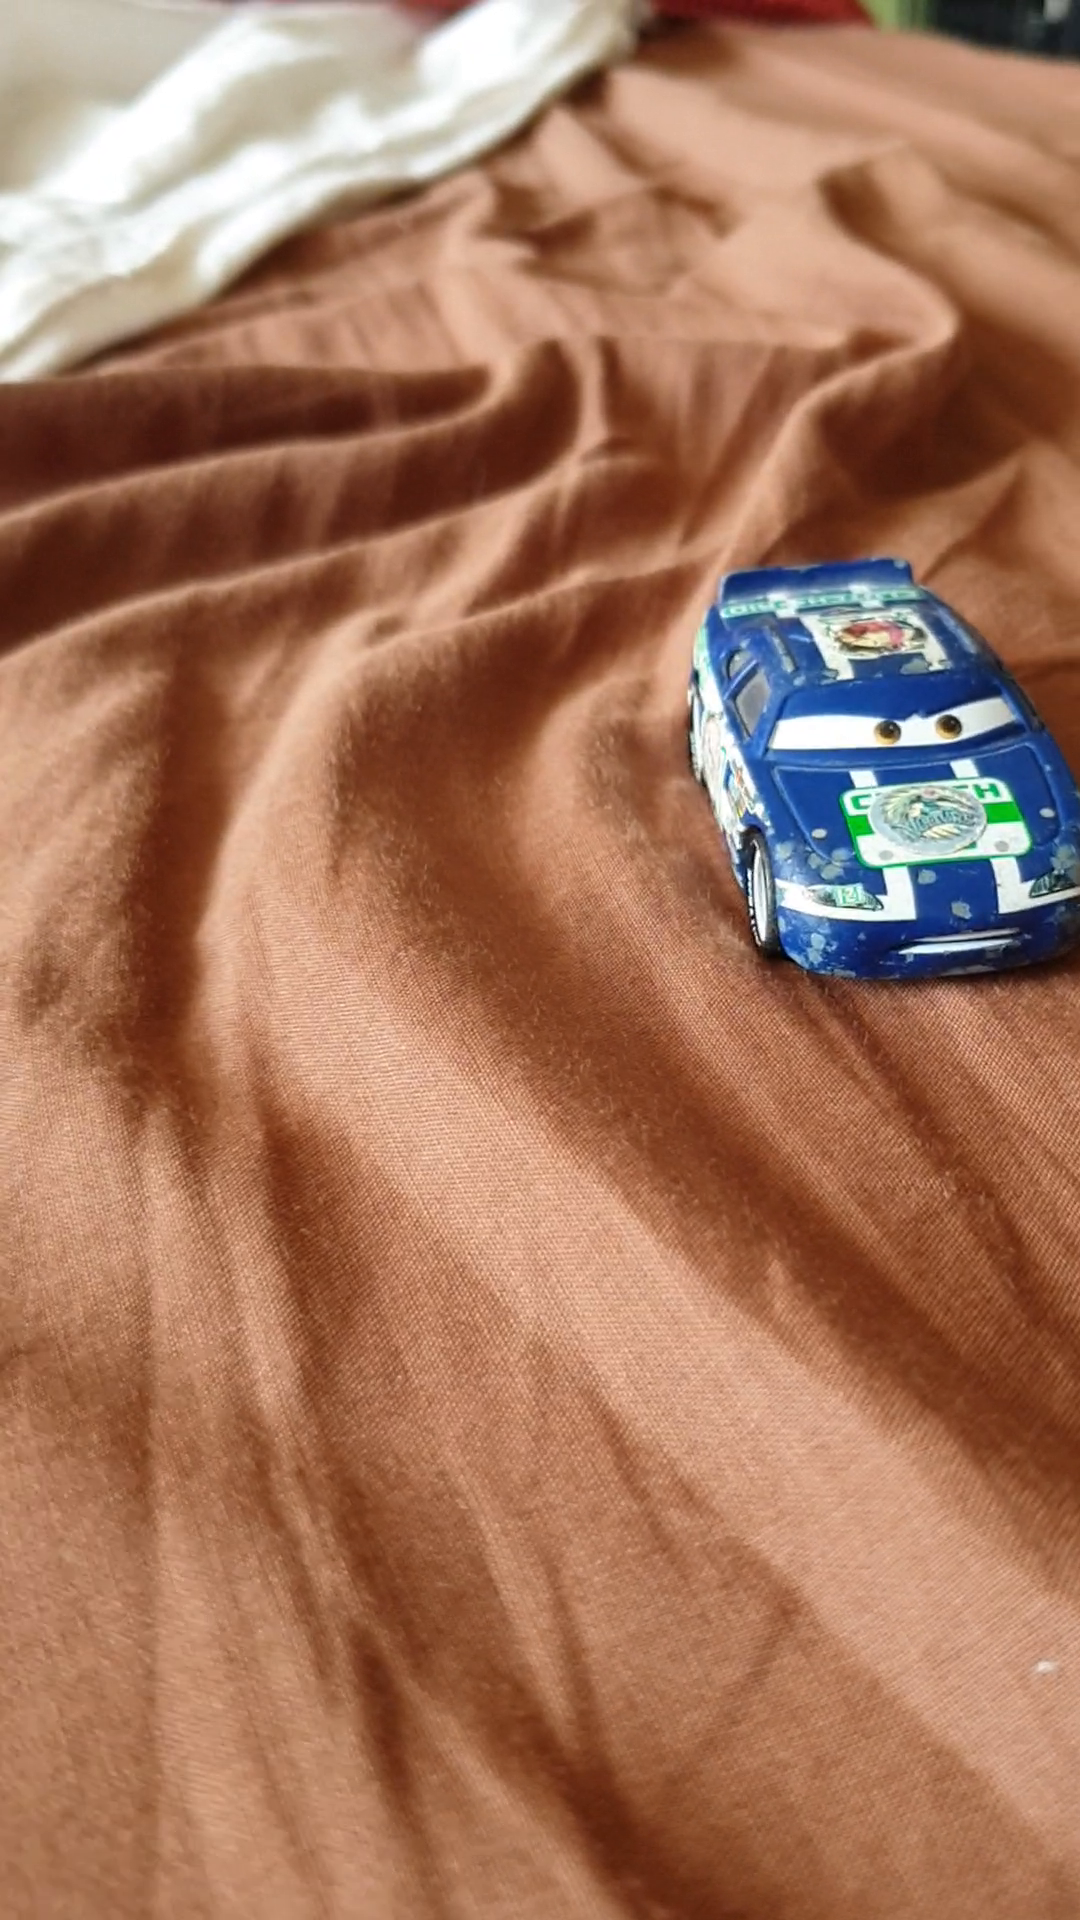cars: (688, 555, 1080, 1000)
